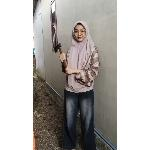Kapak: (52, 42, 72, 74)
